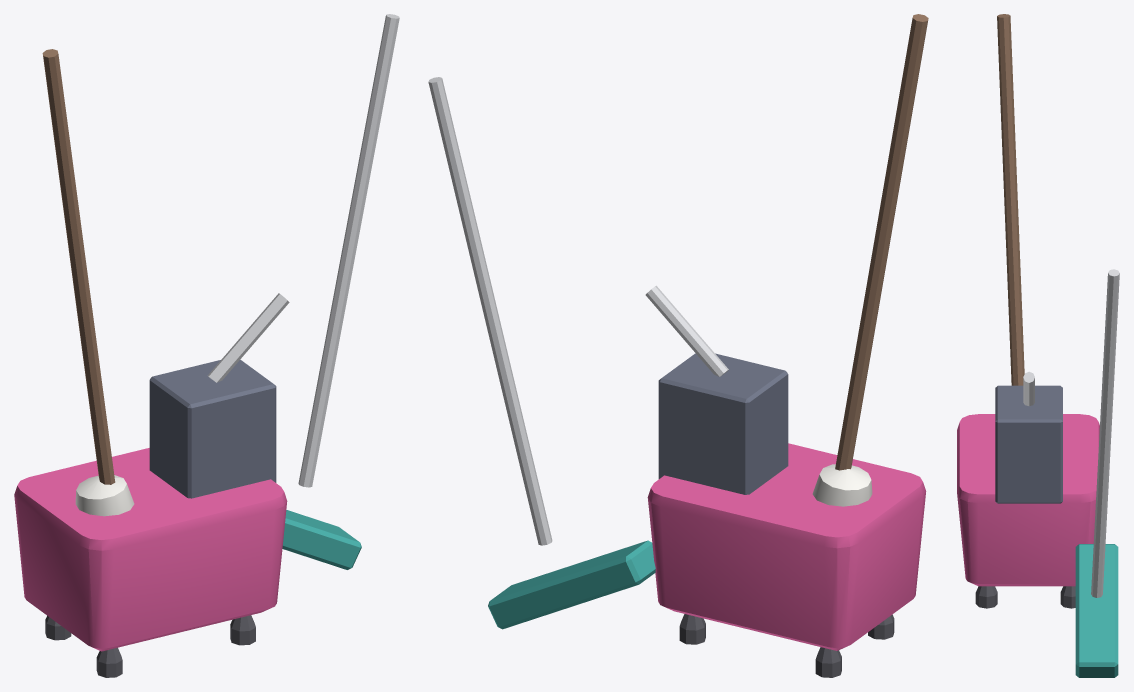
File: bowling-alley-and-pool-hall-cleaning-kit-de7accdf__33880.glb
The picture shows the model from 3 angles, left to right: view 1: azimuth 30°, elevation 25°; view 2: azimuth 150°, elevation 25°; view 3: azimuth 270°, elevation 25°; orthographic projection. The views are drawn at different scales.
Parts seen in each view (by area): view 1: cleaning-kit; view 2: cleaning-kit; view 3: cleaning-kit.
Boxes of the visible parts, left/top/right/bottom form: cleaning-kit: left=14, top=14, right=399, bottom=677; cleaning-kit: left=428, top=14, right=928, bottom=677; cleaning-kit: left=957, top=14, right=1119, bottom=677.
Bounding box in the file's own units: 0.9494 × 1.36 × 0.384.
